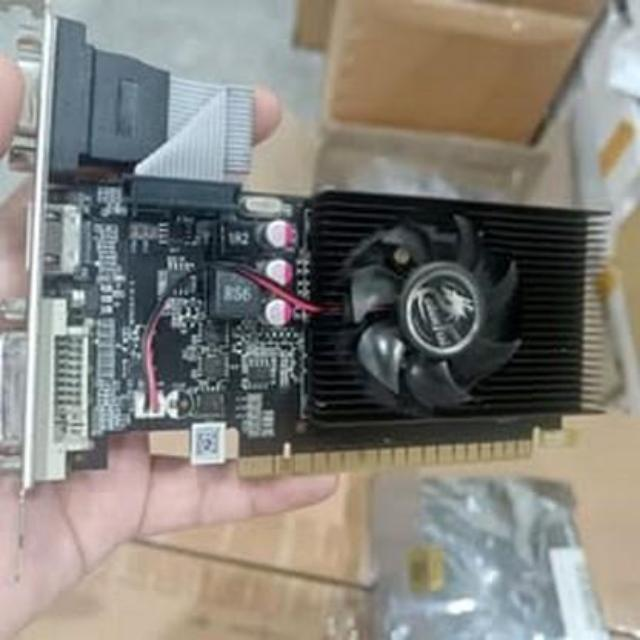GPU: (24, 164, 610, 482)
